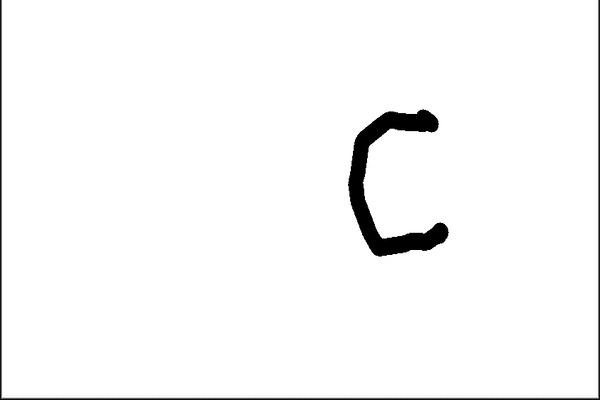C: (345, 99, 450, 260)
